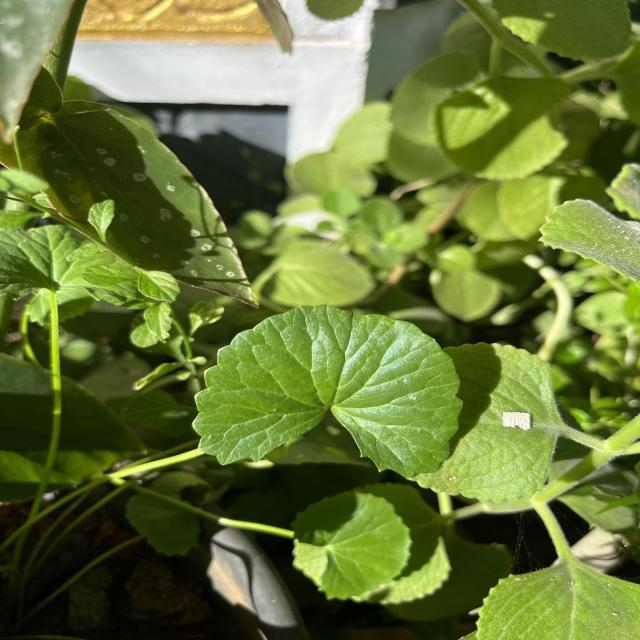Centella asiatica: (189, 303, 466, 482)
